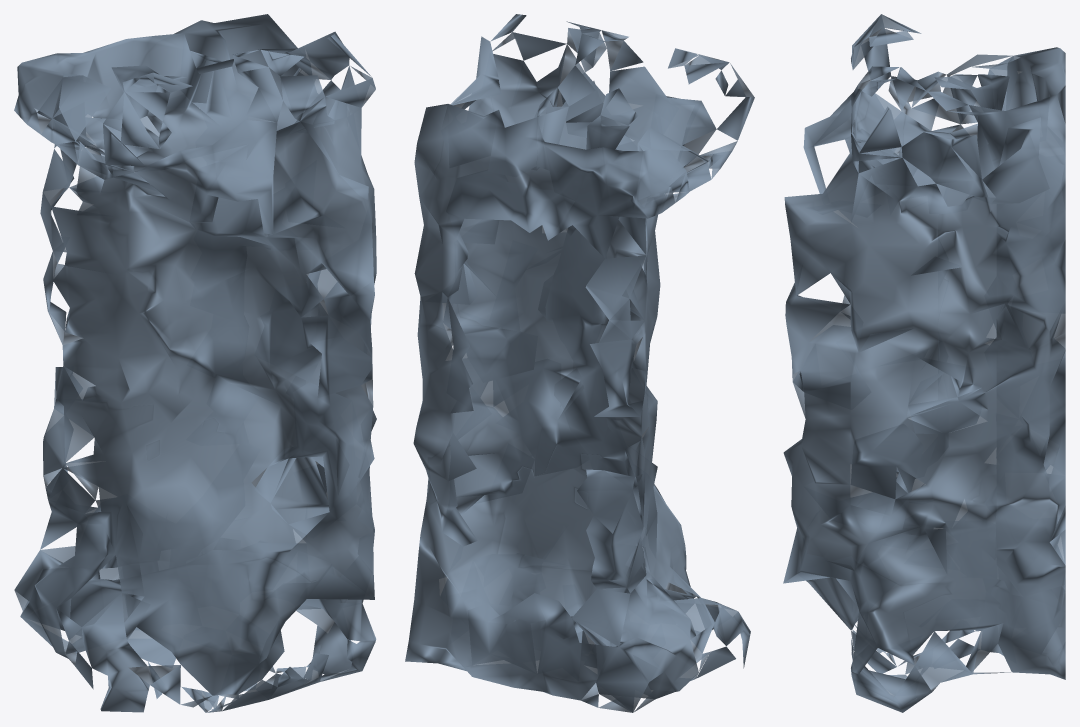
The model's file is sofa_0111_original.obj.
3 views of the same model, side by side, from view 1: azimuth 30°, elevation 25°; view 2: azimuth 150°, elevation 25°; view 3: azimuth 270°, elevation 25° (orthographic). The views are drawn at different scales.
Bounding box in the file's own units: 0.7329 × 1.77 × 0.7569.
